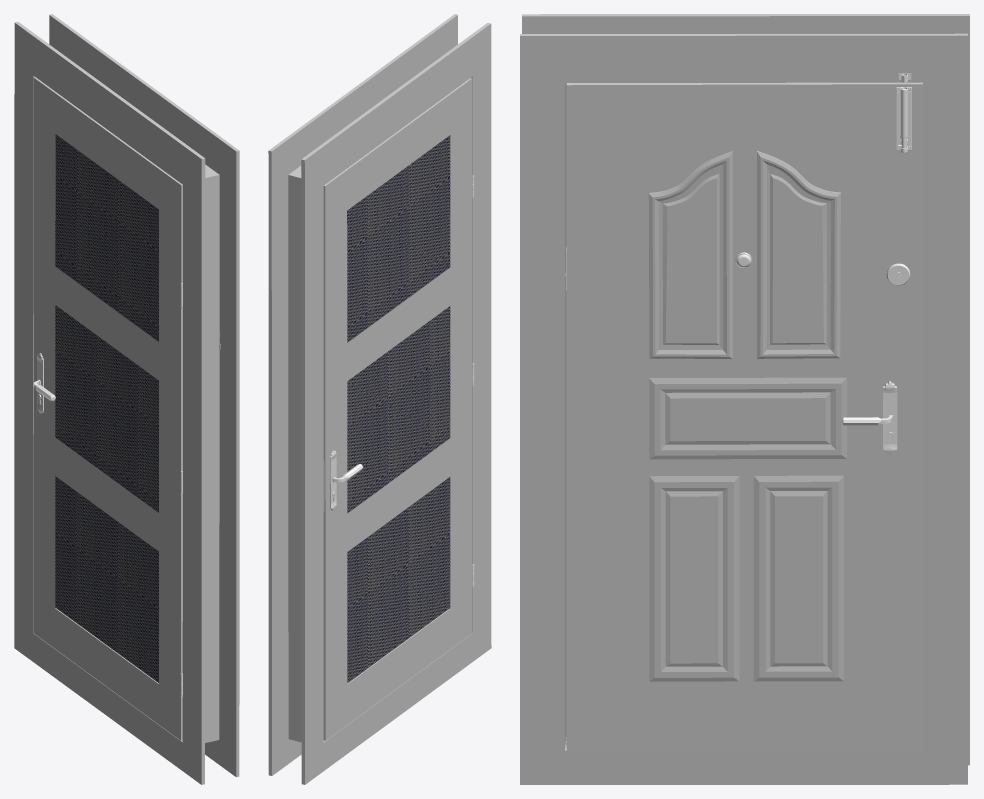
File: PRIMO_SINGLE_PIVOT (1).fbx
3 renders of one model, left to right at view 1: azimuth 30°, elevation 25°; view 2: azimuth 150°, elevation 25°; view 3: azimuth 270°, elevation 25°, orthographic. The views are drawn at different scales.
Parts seen in each view (by area): view 1: outer_frame, DOOR_GRILL_1, GLASS_1; view 2: outer_frame, DOOR_GRILL_1, GLASS_1; view 3: door_FIRST, outer_frame, polySurface11, pCube11.
Boxes of the visible parts, x1,y1,x2,y2 form: outer_frame: [14, 14, 239, 784]; DOOR_GRILL_1: [33, 77, 182, 740]; GLASS_1: [55, 134, 158, 682]; outer_frame: [268, 14, 491, 784]; DOOR_GRILL_1: [323, 78, 472, 740]; GLASS_1: [347, 135, 450, 683]; door_FIRST: [566, 82, 922, 752]; outer_frame: [520, 14, 969, 784]; polySurface11: [896, 87, 911, 152]; pCube11: [883, 381, 897, 454].
Size of the model in its own units: 25.39 by 244 by 133.
